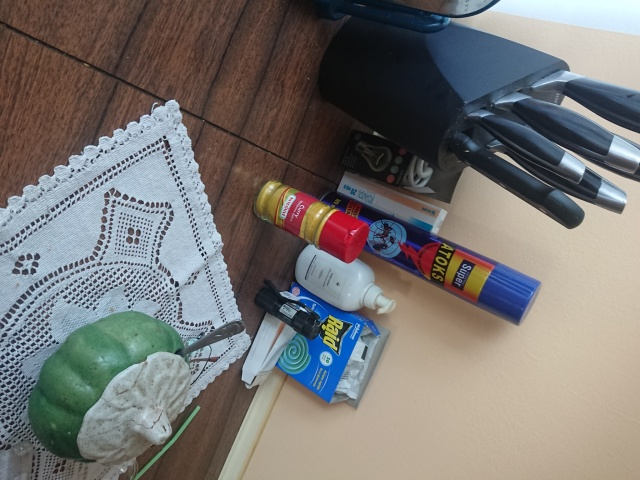Kotanyi Curry Spices Mix 70g: (251, 176, 371, 265)
